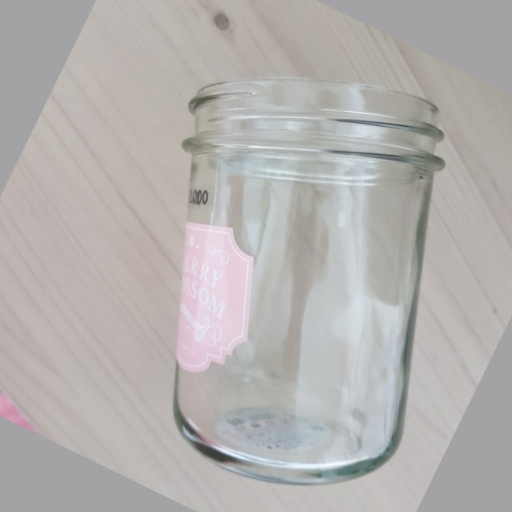Glass_5: (167, 71, 442, 480)
